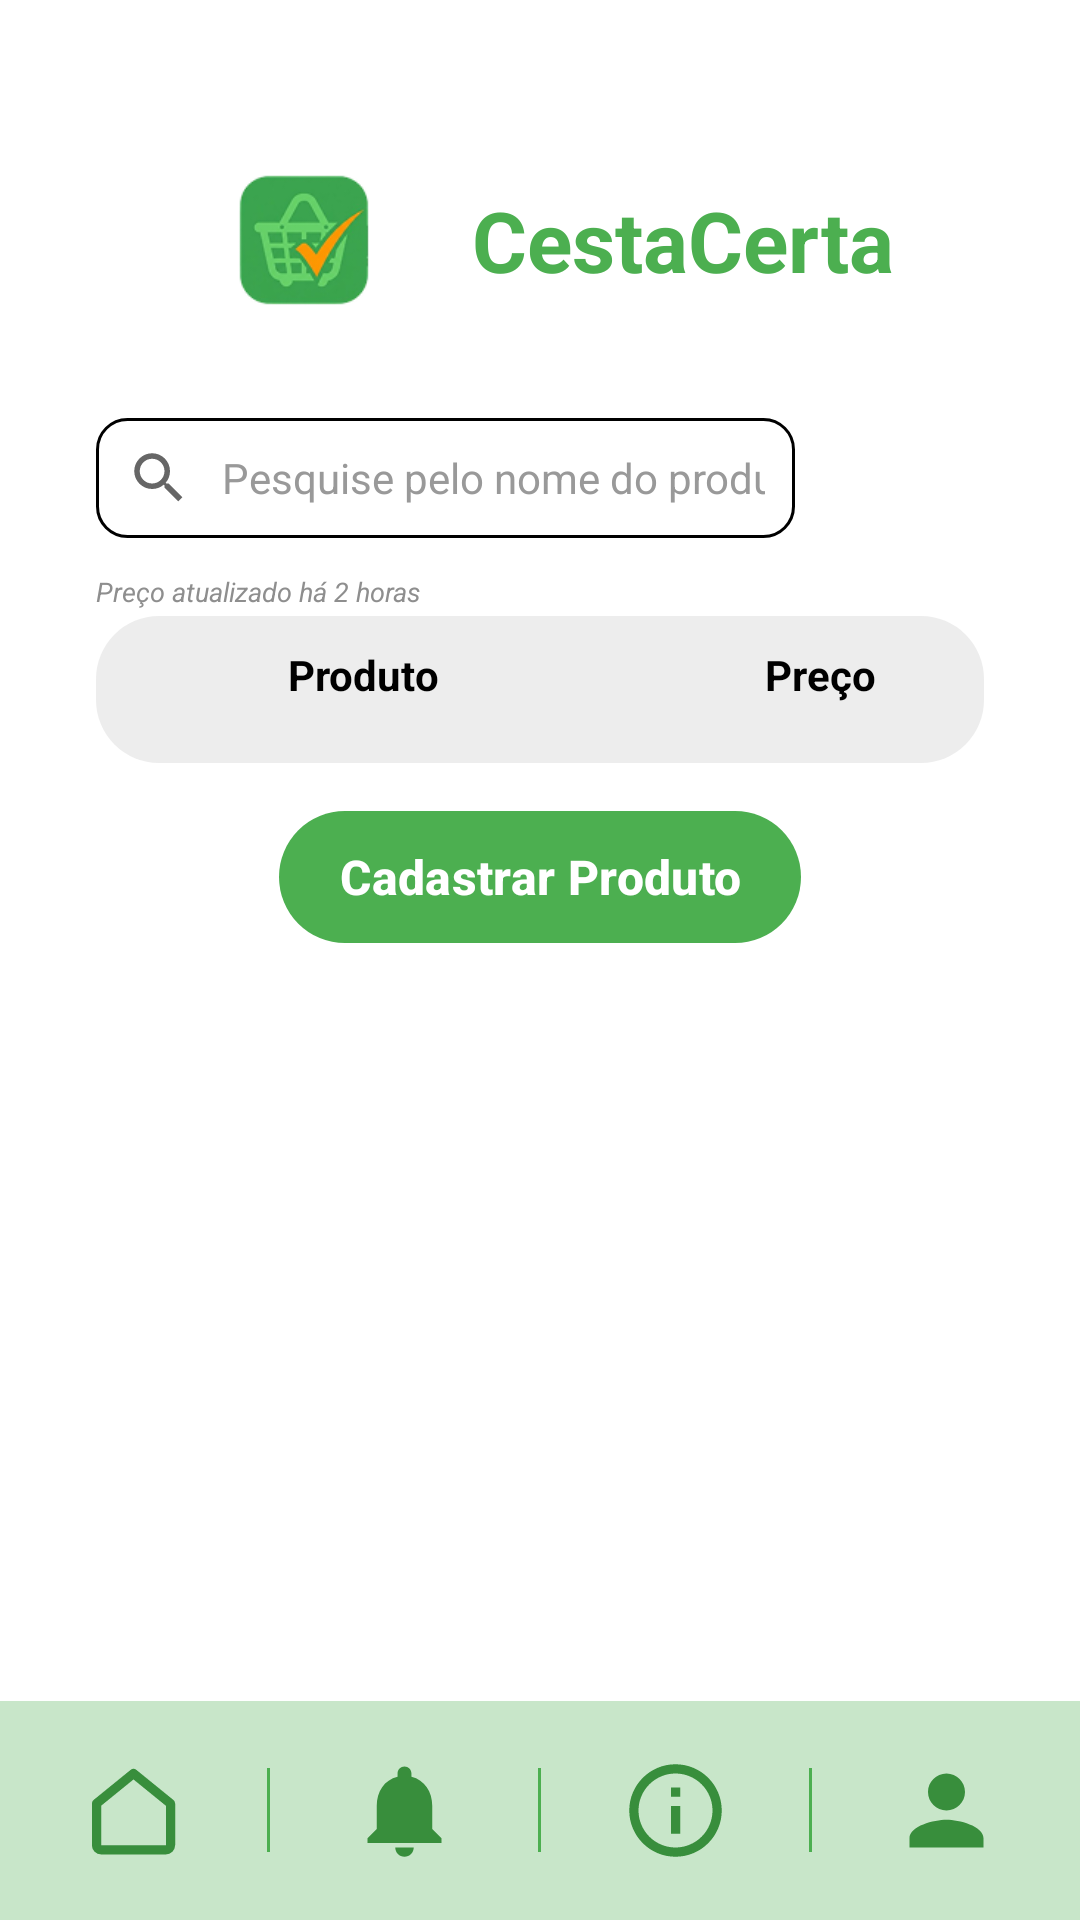

Where to tap for icons on this 1080 x 1920 app screen, as (x=x, y=y):
Início: (x=134, y=1811)
Notificações: (x=404, y=1811)
Perfil: (x=946, y=1810)
Sobre nós: (x=675, y=1810)
